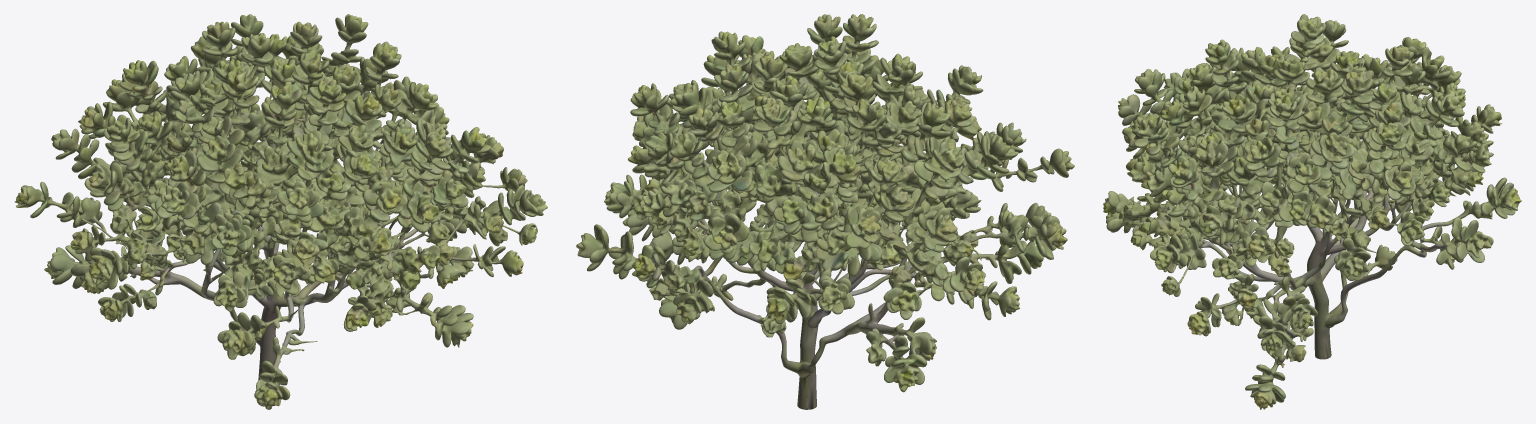
Rendered from CreosoteBush-optimized.glb.
3 views of the same model, side by side, from view 1: azimuth 30°, elevation 25°; view 2: azimuth 150°, elevation 25°; view 3: azimuth 270°, elevation 25° (orthographic). The views are drawn at different scales.
Parts seen in each view (by area): view 1: mesh_node; view 2: mesh_node; view 3: mesh_node.
Boxes of the visible parts, box(x1,y1,x2,y2) form: mesh_node: box(14, 14, 547, 409); mesh_node: box(576, 14, 1074, 409); mesh_node: box(1103, 14, 1521, 409).
Bounding box in the file's own units: 1.9 × 1.53 × 1.75.
Materials: 1 (1 with a texture image).
